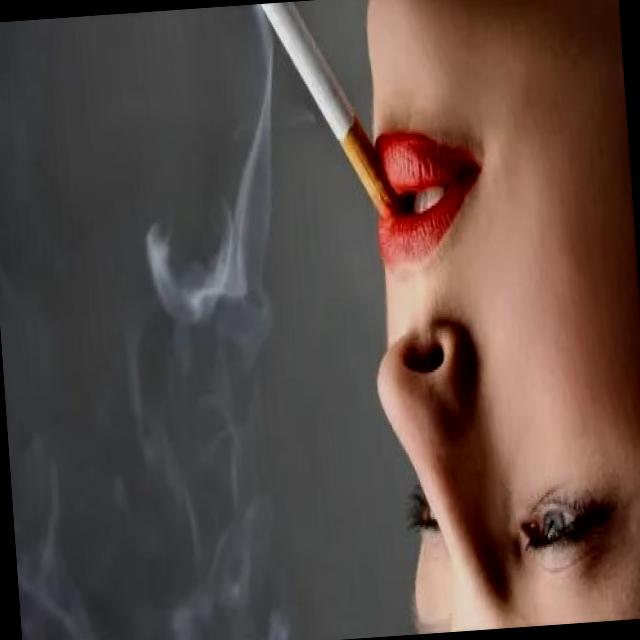cigarette: (255, 0, 402, 236)
